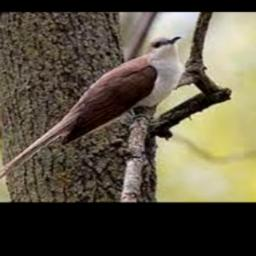Cuckoo: (0, 35, 181, 188)
